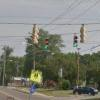Traffic light: (63, 20, 87, 57)
